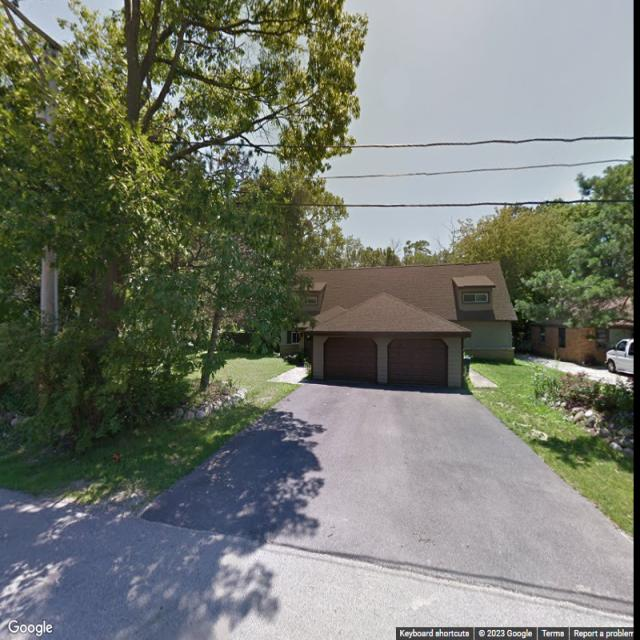House: (283, 261, 517, 394), (526, 290, 633, 365)
